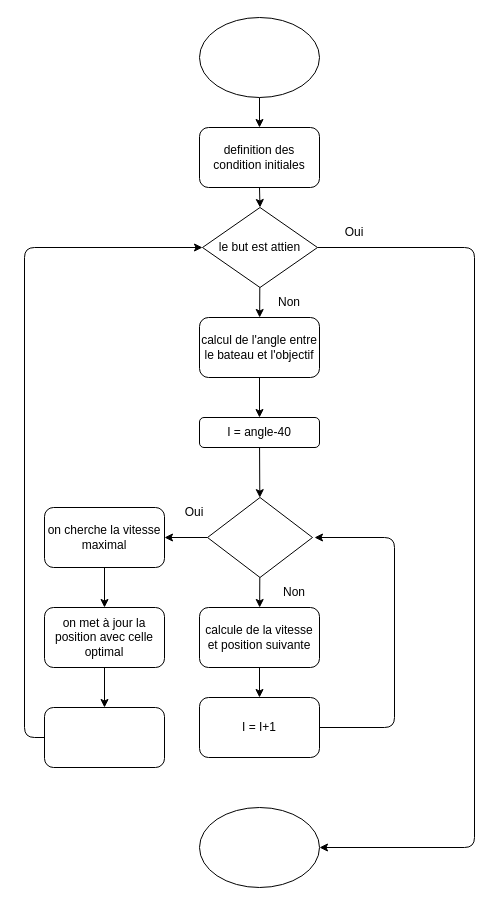
The diagram is 500 pixels wide and 905 high, and some of its shapes have lost their labels. Each missing label, with the centre of its shape:
"Debut" goes at [259,57].
"FIN" goes at [259,847].
"i = angle+40" goes at [259,537].
"on ajoute la position dans la liste du chemin" goes at [104,737].
